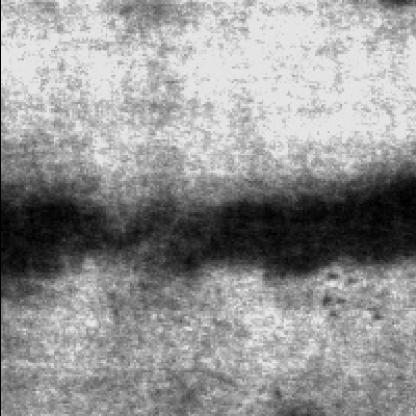patches: (154, 191, 414, 279), (0, 185, 106, 295)
